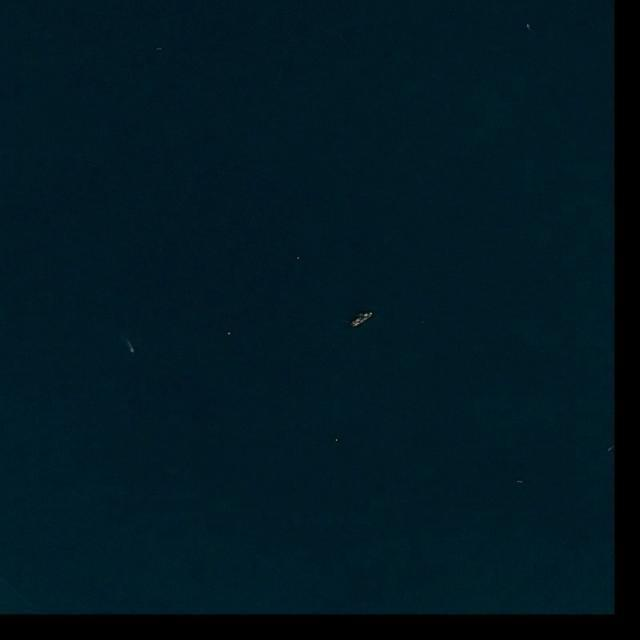ship: (349, 310, 374, 330), (130, 348, 136, 354)
